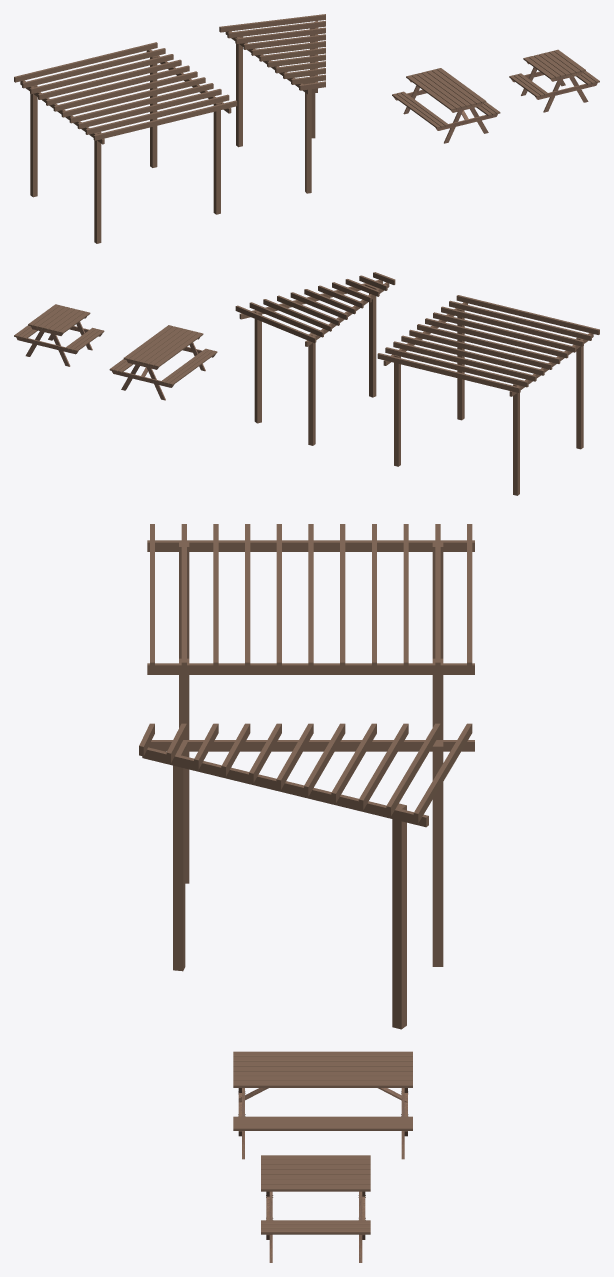
Rendered from uploads_files_2579227_PICNIC+TABLE.fbx.
3 renders of one model, top to bottom at view 1: azimuth 30°, elevation 25°; view 2: azimuth 150°, elevation 25°; view 3: azimuth 270°, elevation 25°, orthographic. The views are drawn at different scales.
Visible parts, largest first — view 1: Component_12_5, Component_12_4, Component_12_12, Component_12_11, Component_12_13, Component_12_3, Component_12_15, Component_12_10, Component_12_14, Component_12_7, Component_12_8, Component_13_4 (+13 smaller); view 2: Component_12_7, Component_12_10, Component_12_14, Component_12_15, Component_12_5, Component_12_12, Component_12_13, Component_12_4, Component_12_8, Component_12_3, Component_12_11, Component_13_1 (+14 smaller); view 3: Component_12_9, Component_12_6, Component_13_1, Component_12_1, Component_13_3, Component_12_2, Component_13_2, Component_6_3, Component_5_6, Component_13_4, Group11, Component_6_1 (+5 smaller).
Boxes of the visible parts, x1,y1,x2,y2 form: Component_12_5: [53, 71, 197, 111]; Component_12_4: [93, 100, 237, 140]; Component_12_12: [69, 83, 213, 123]; Component_12_11: [77, 89, 221, 129]; Component_12_13: [61, 77, 205, 117]; Component_12_3: [85, 94, 229, 134]; Component_12_15: [38, 59, 181, 99]; Component_12_10: [22, 48, 165, 88]; Component_12_14: [46, 65, 189, 105]; Component_12_7: [14, 42, 157, 82]; Component_12_8: [30, 54, 173, 94]; Component_13_4: [213, 102, 220, 214]; Component_12_7: [377, 353, 520, 393]; Component_12_10: [385, 347, 528, 387]; Component_12_14: [409, 329, 552, 369]; Component_12_15: [401, 335, 544, 375]; Component_12_5: [417, 324, 560, 363]; Component_12_12: [433, 312, 576, 352]; Component_12_13: [425, 318, 568, 358]; Component_12_4: [456, 295, 599, 334]; Component_12_8: [393, 341, 536, 381]; Component_12_3: [449, 300, 591, 340]; Component_12_11: [441, 306, 583, 346]; Component_13_1: [254, 311, 261, 423]; Component_12_9: [147, 663, 474, 674]; Component_12_6: [147, 540, 474, 551]; Component_13_1: [392, 803, 406, 1029]; Component_12_1: [142, 747, 428, 827]; Component_13_3: [173, 746, 185, 971]; Component_12_2: [148, 740, 474, 751]; Component_13_2: [432, 742, 443, 966]; Component_6_3: [233, 1081, 412, 1087]; Component_5_6: [233, 1124, 412, 1130]; Component_13_4: [179, 658, 189, 883]; Group11: [413, 723, 472, 823]; Component_6_1: [233, 1061, 412, 1066].
Bounding box in the file's own units: 1160 × 240 × 318.
